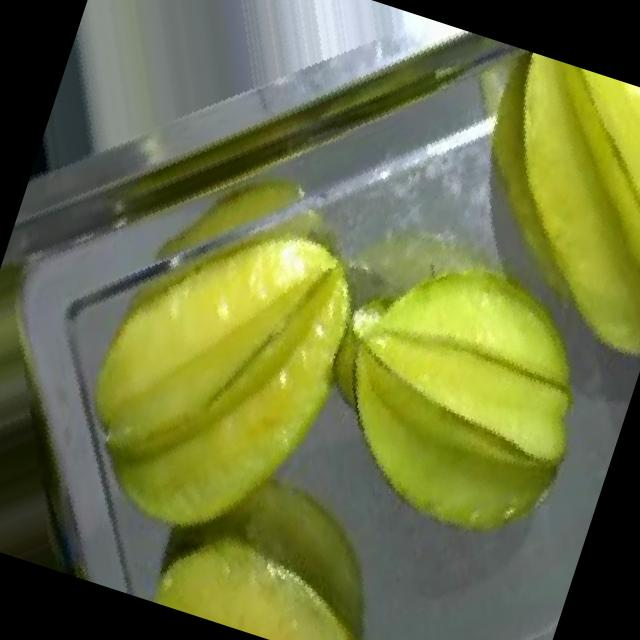fruit: (0, 142, 458, 616), (259, 169, 640, 603), (400, 39, 640, 395), (120, 478, 452, 640)
